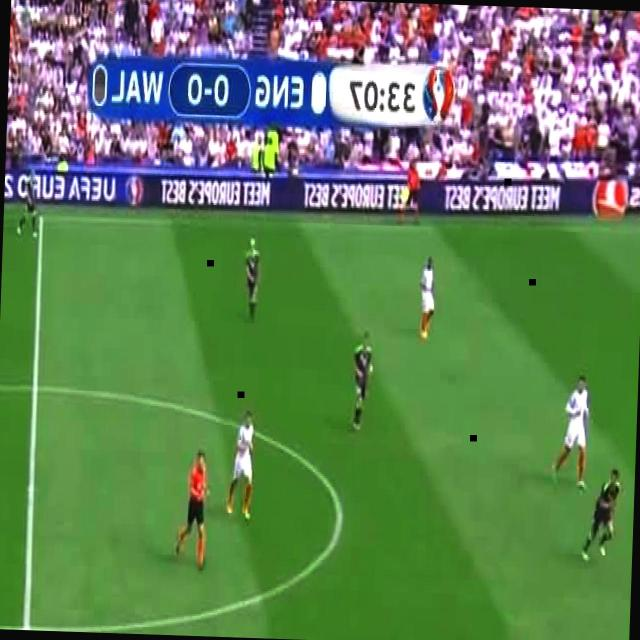player-white: (552, 374, 590, 490), (175, 452, 211, 572), (581, 468, 621, 564), (224, 410, 256, 522), (351, 333, 373, 431), (242, 236, 262, 324), (16, 169, 40, 241), (418, 255, 436, 341)
